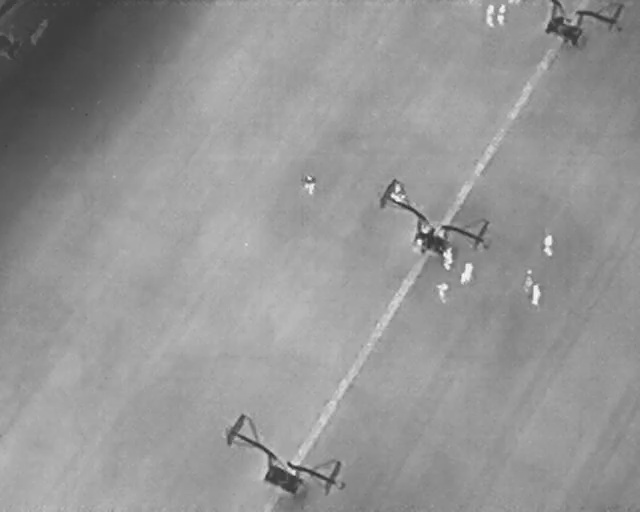Person: (456, 258, 478, 288), (300, 173, 317, 198), (519, 267, 535, 291), (441, 246, 454, 273), (389, 182, 405, 203), (436, 283, 451, 304), (484, 3, 495, 29), (543, 232, 553, 260), (496, 4, 507, 26), (531, 284, 540, 306), (419, 220, 431, 234), (415, 237, 423, 248)
